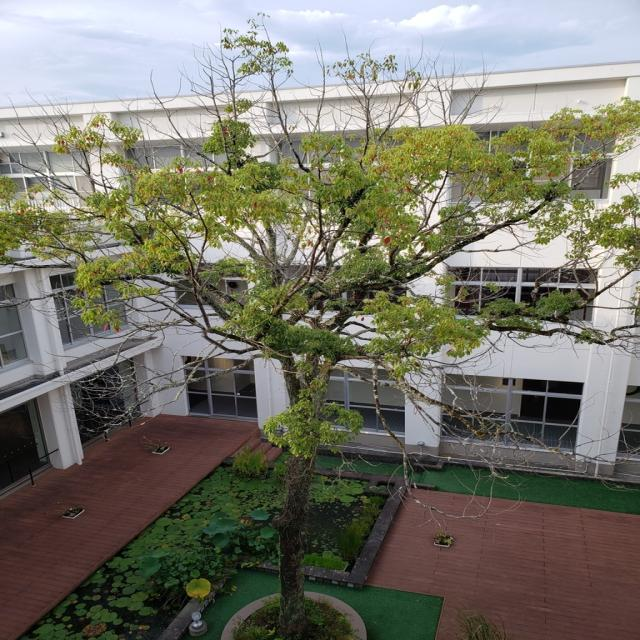camphor: (0, 19, 640, 626)
